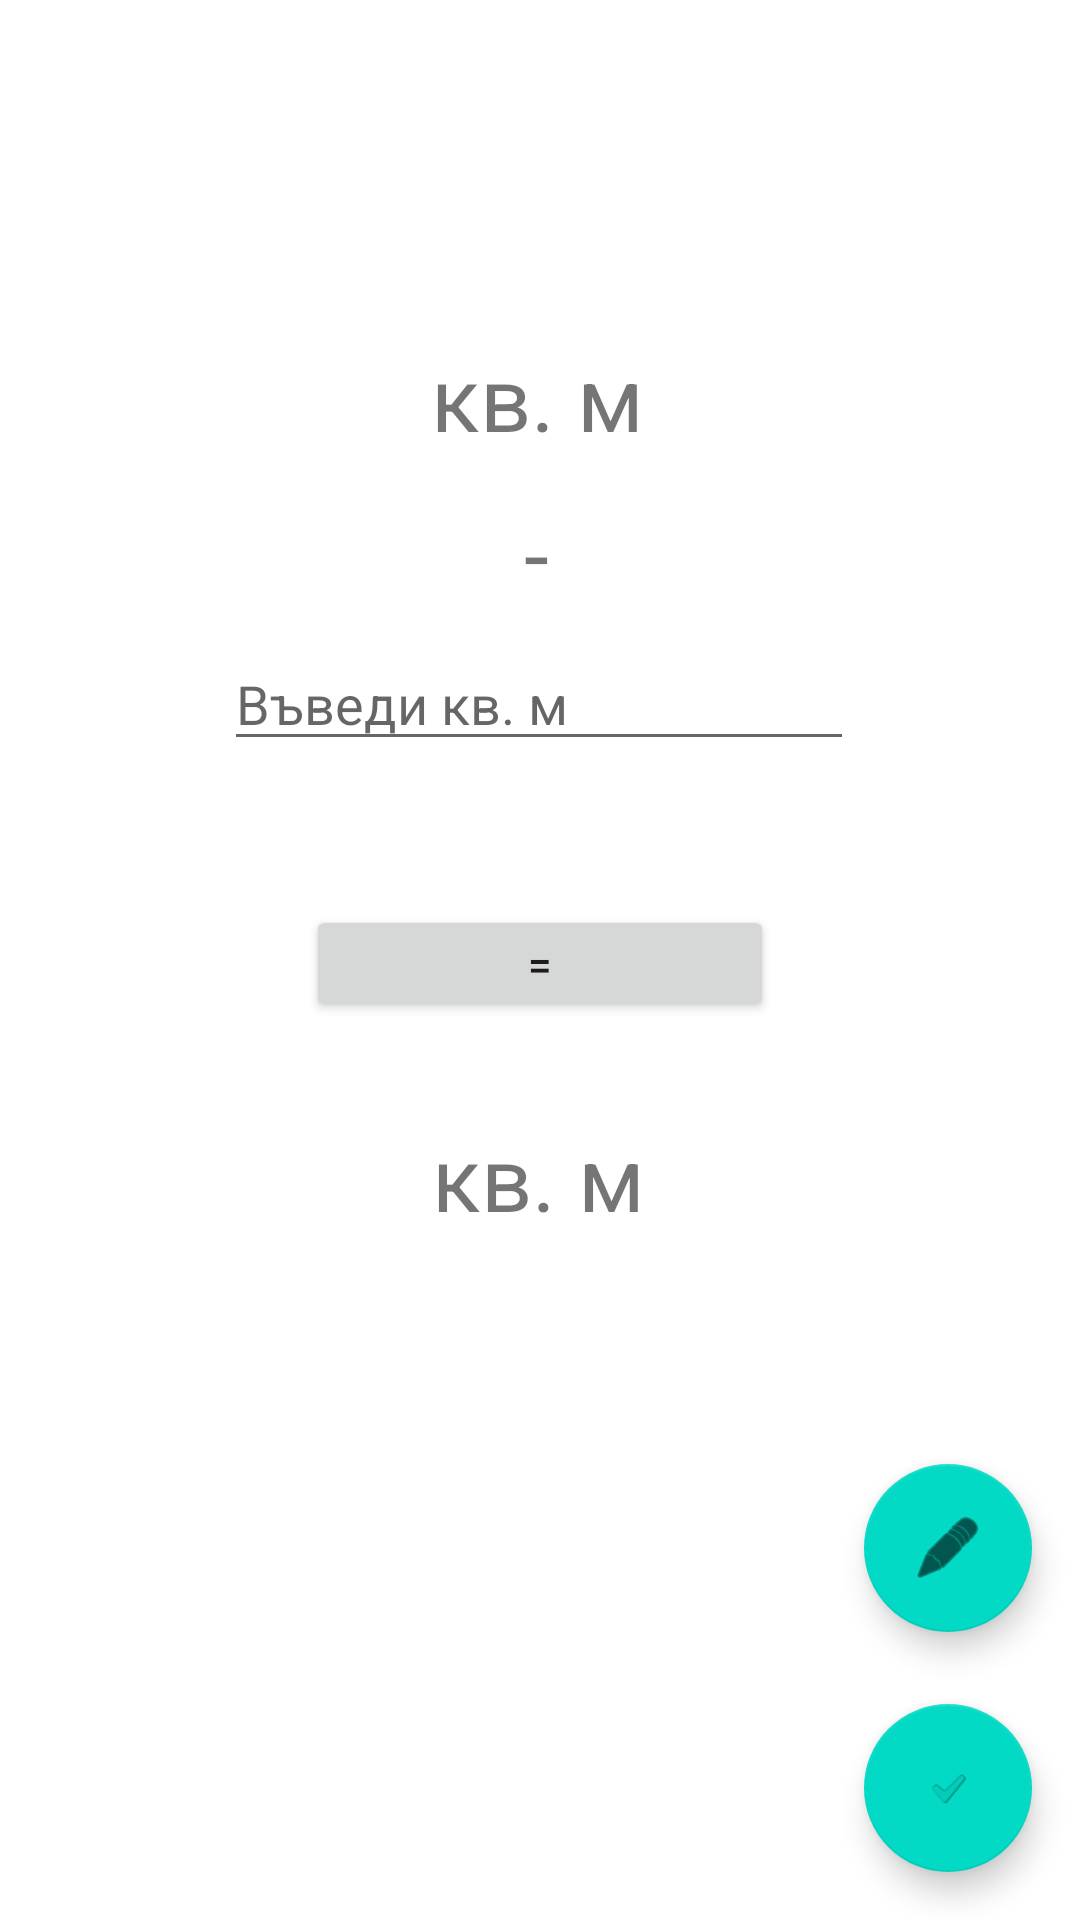

Screen size 1080×1920. Icon name, then its center in pixels as (x=x, y=y):
edit: (x=948, y=1548)
